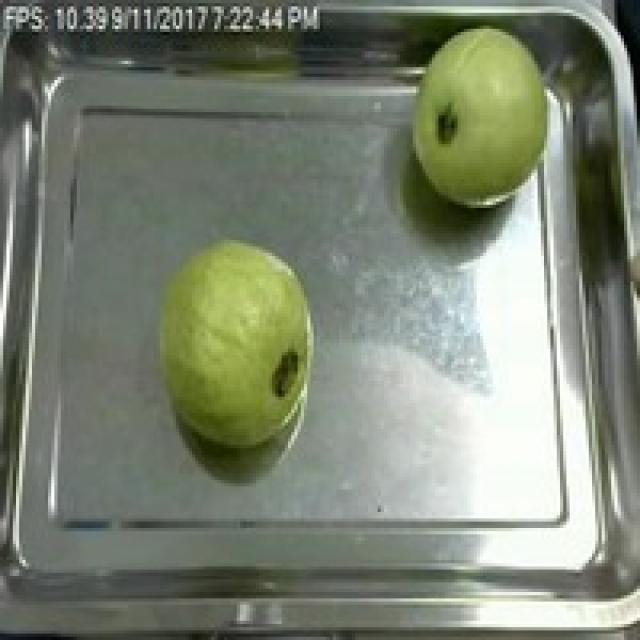Fruit: (144, 227, 326, 458), (397, 13, 573, 224)
